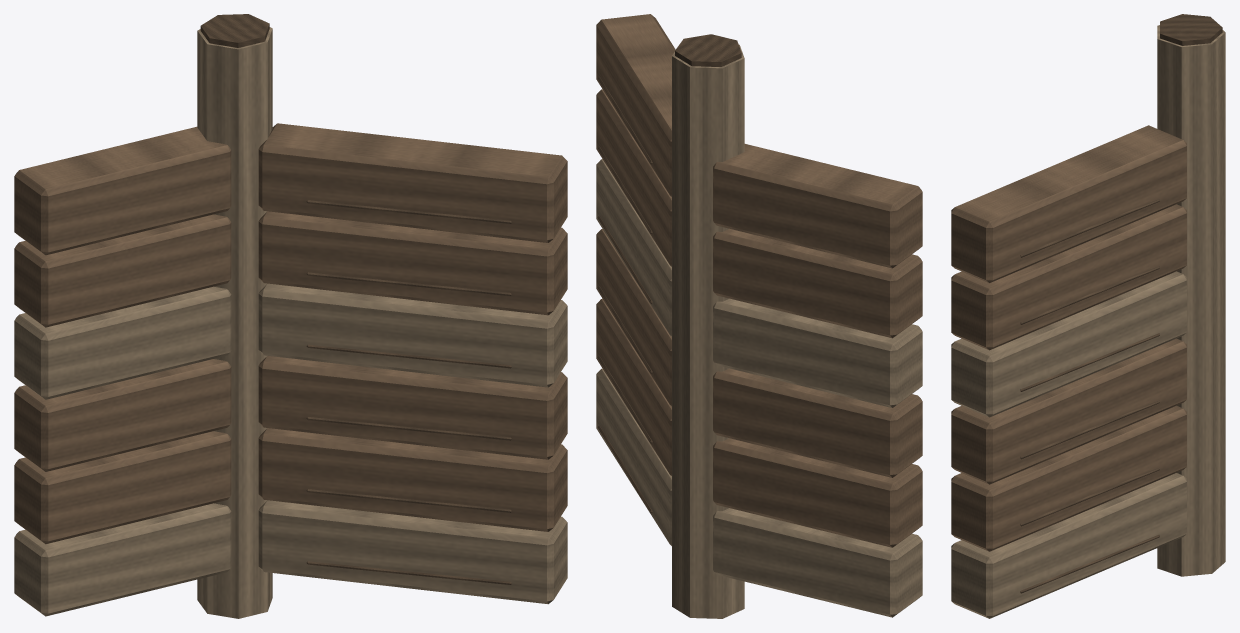
File: wall_mask_66.glb
3 views of the same model, side by side, from view 1: azimuth 30°, elevation 25°; view 2: azimuth 150°, elevation 25°; view 3: azimuth 270°, elevation 25° (orthographic). The views are drawn at different scales.
Visible parts, largest first — view 1: wall_mask_66__Weathered_timber, wall_mask_66__Timber_worn_edges, wall_mask_66__Dark_endgrain; view 2: wall_mask_66__Weathered_timber, wall_mask_66__Timber_worn_edges, wall_mask_66__Dark_endgrain; view 3: wall_mask_66__Weathered_timber, wall_mask_66__Timber_worn_edges, wall_mask_66__Dark_endgrain.
Boxes of the visible parts, box(x1,y1,x2,y2) form: wall_mask_66__Weathered_timber: box(14, 123, 567, 544); wall_mask_66__Timber_worn_edges: box(14, 27, 567, 618); wall_mask_66__Dark_endgrain: box(200, 14, 511, 584); wall_mask_66__Weathered_timber: box(596, 14, 922, 547); wall_mask_66__Timber_worn_edges: box(596, 44, 922, 618); wall_mask_66__Dark_endgrain: box(597, 34, 741, 513); wall_mask_66__Weathered_timber: box(951, 125, 1186, 551); wall_mask_66__Timber_worn_edges: box(951, 25, 1225, 618); wall_mask_66__Dark_endgrain: box(1020, 14, 1222, 593).
Bounding box in the file's own units: 1.09 × 1.39 × 0.6484.
3 materials, 3 textured.
